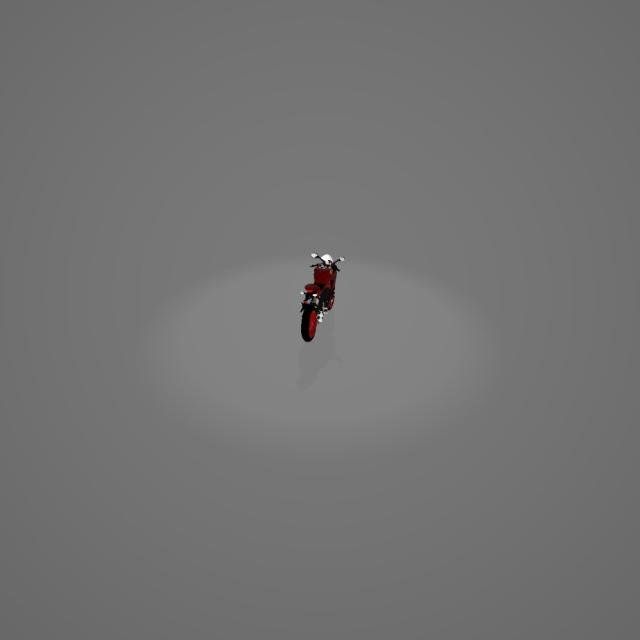Motobike: (292, 250, 351, 346)
